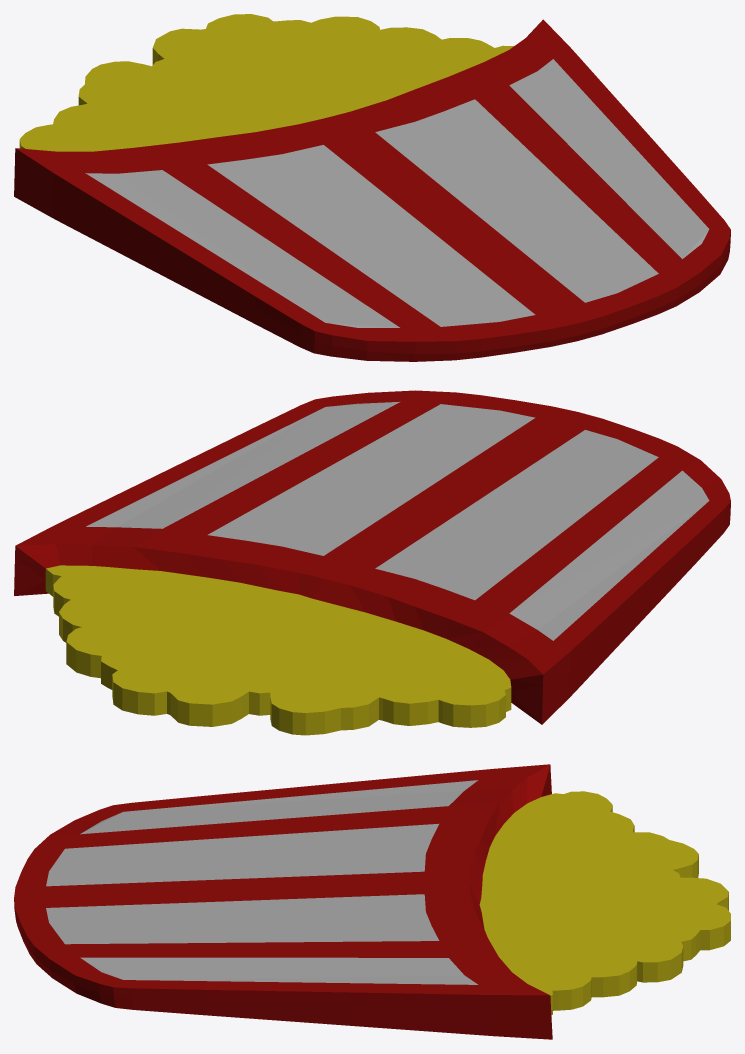
Rendered from popcorn.dae.
3 renders of one model, top to bottom at view 1: azimuth 30°, elevation 25°; view 2: azimuth 150°, elevation 25°; view 3: azimuth 270°, elevation 25°, orthographic. The views are drawn at different scales.
Parts seen in each view (by area): view 1: popcorn; view 2: popcorn; view 3: popcorn.
Boxes of the visible parts, x1,y1,x2,y2 form: popcorn: (14,14,730,361); popcorn: (14,390,730,735); popcorn: (14,764,730,1039).
Bounding box in the file's own units: 1.48 × 0.1321 × 1.93.
